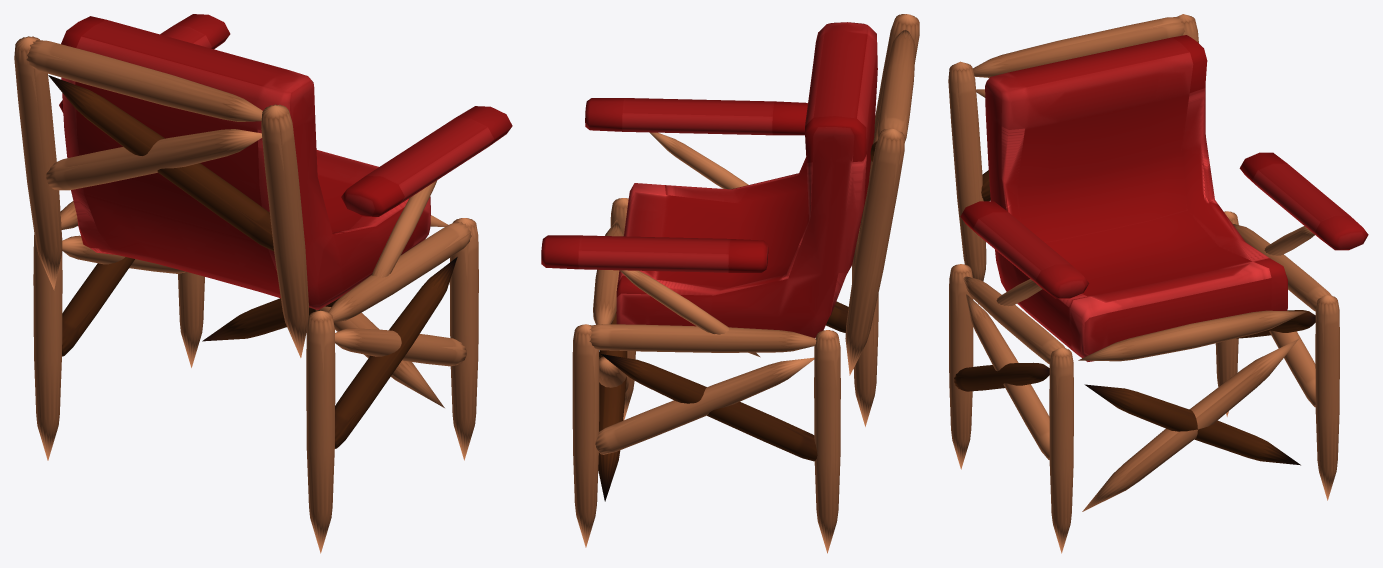
The model's file is chair99.fbx.
3 renders of one model, left to right at view 1: azimuth 30°, elevation 25°; view 2: azimuth 150°, elevation 25°; view 3: azimuth 270°, elevation 25°, orthographic. The views are drawn at different scales.
Visible parts, largest first — view 1: Cube.010; view 2: Cube.010; view 3: Cube.010.
Part boxes in pixels (x1,y1,x2,y2): Cube.010: (14,14,512,553); Cube.010: (541,14,919,553); Cube.010: (948,14,1368,553).
Bounding box in the file's own units: 354 × 373 × 365.
2 materials, 2 textured.
